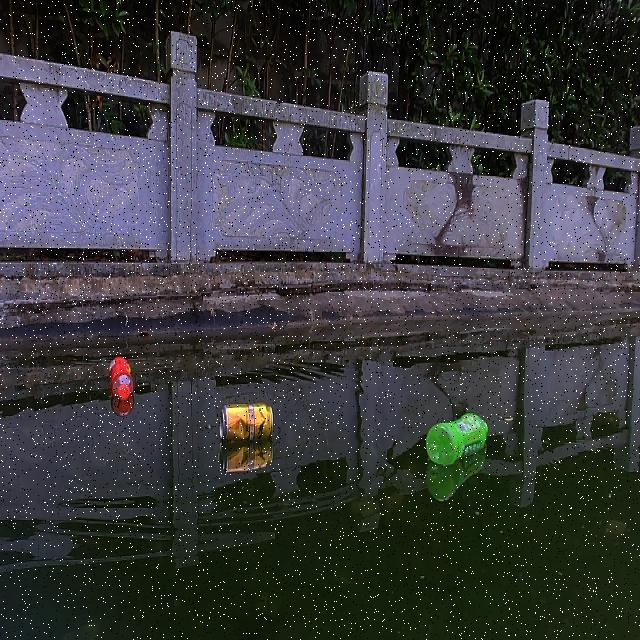bottle: (423, 412, 490, 467), (108, 352, 133, 400)
can: (217, 400, 273, 440)
